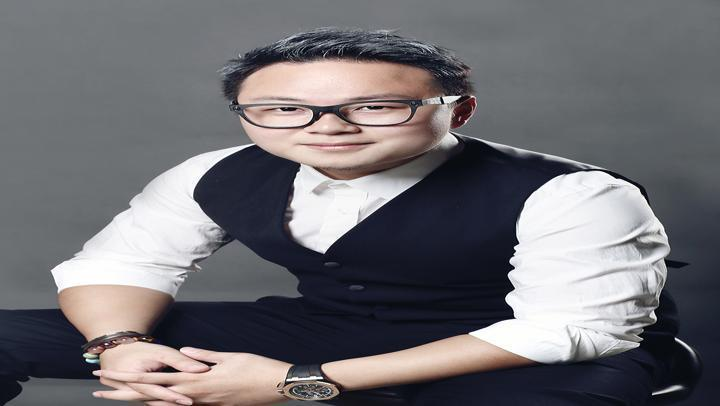safetyhat: (54, 30, 652, 376)
